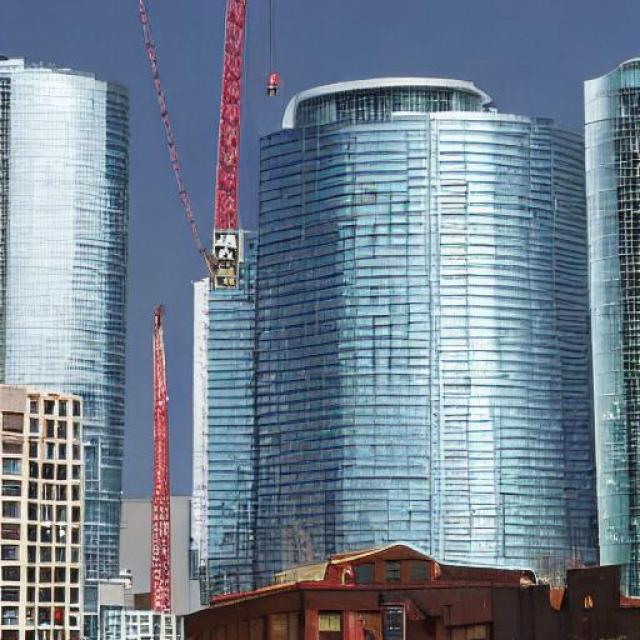crane: (111, 0, 243, 591)
